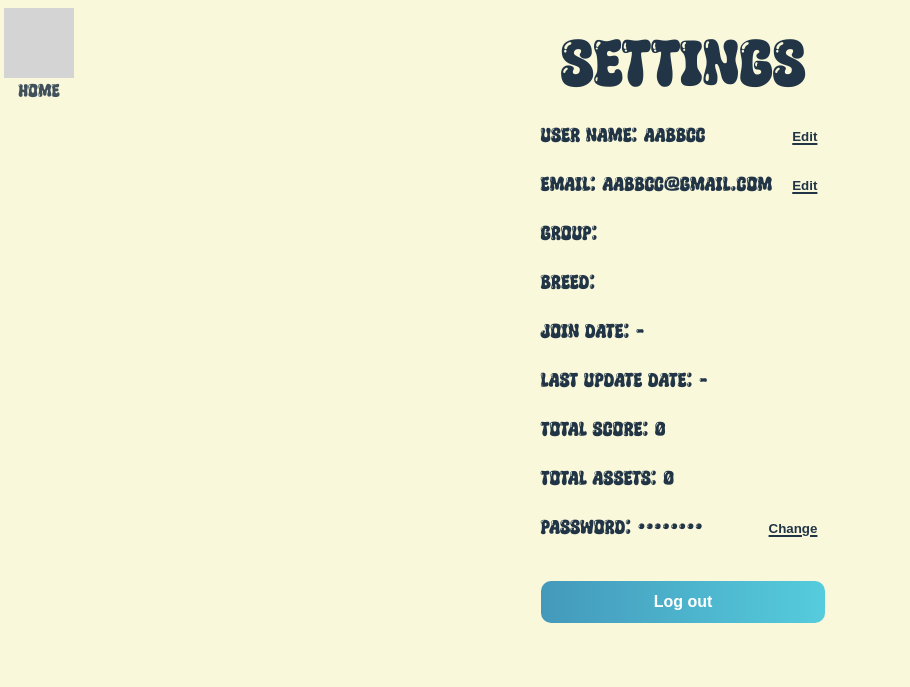
Test: Settings › successfully updates username
# Enter edit mode
Click the button "Edit" in the row of "User Name:" at (805, 136), box [784, 126, 825, 147]
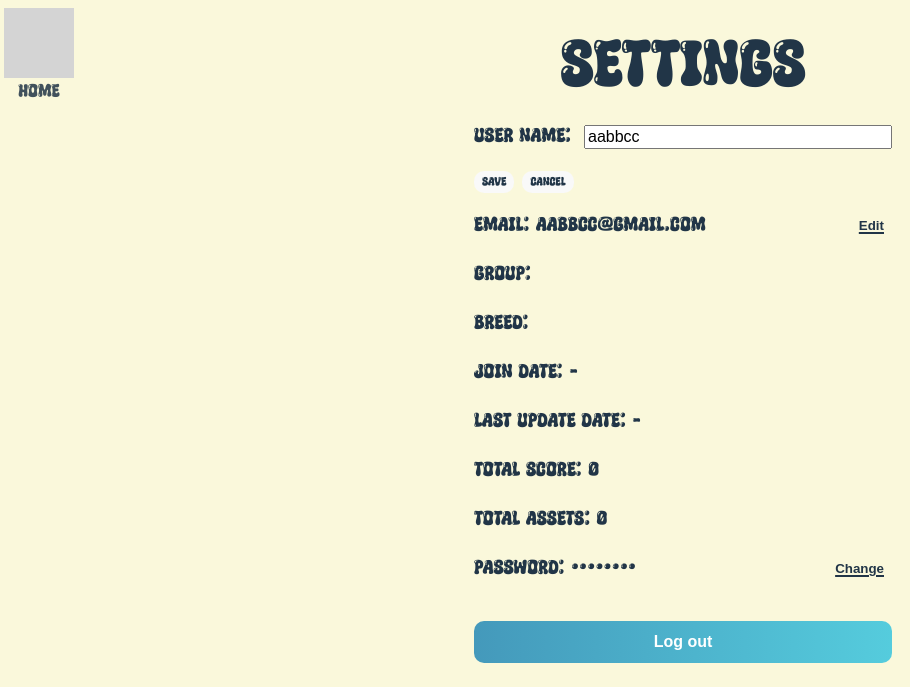
# Fill new username
Replace the text in the field labelled "User Name:" with "aabbccdd" at (738, 136), box [584, 124, 892, 148]
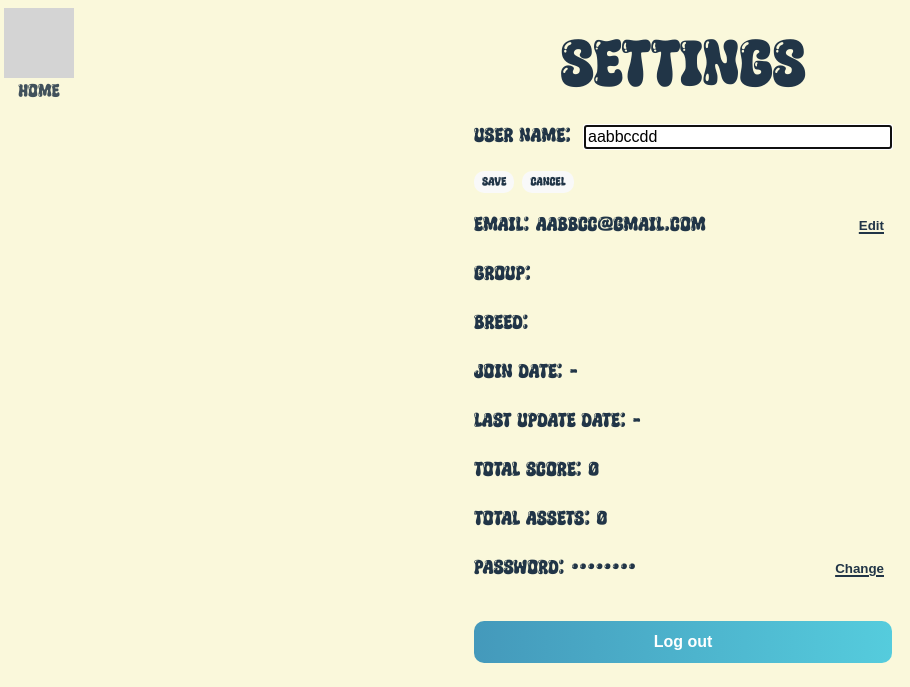
# Save changes
Click the button "Save" at (494, 182), box [474, 171, 514, 193]
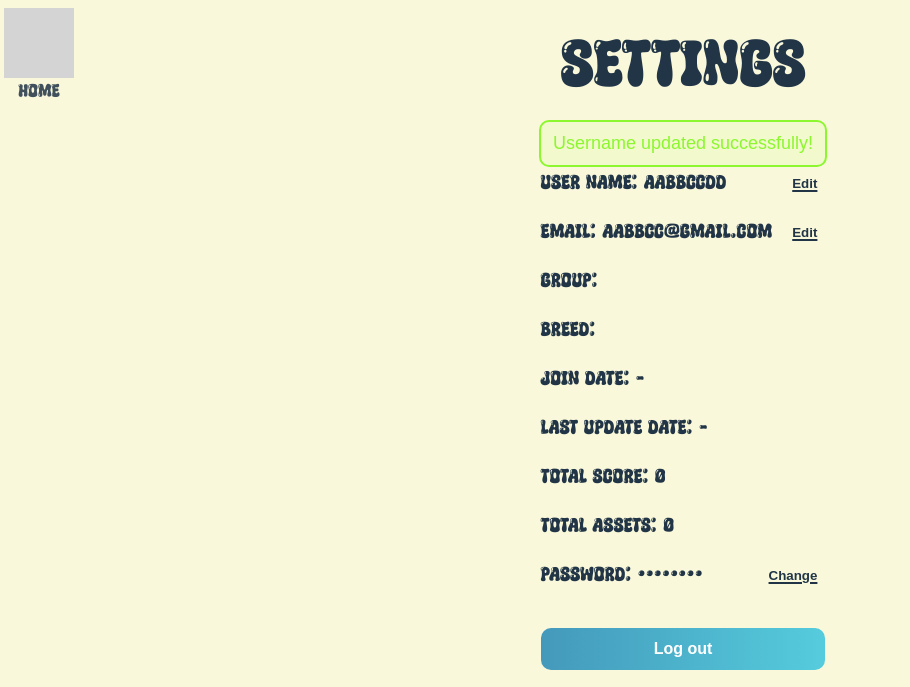
Check: the text "User Name: aabbccdd" is shown, box [541, 175, 726, 191]
